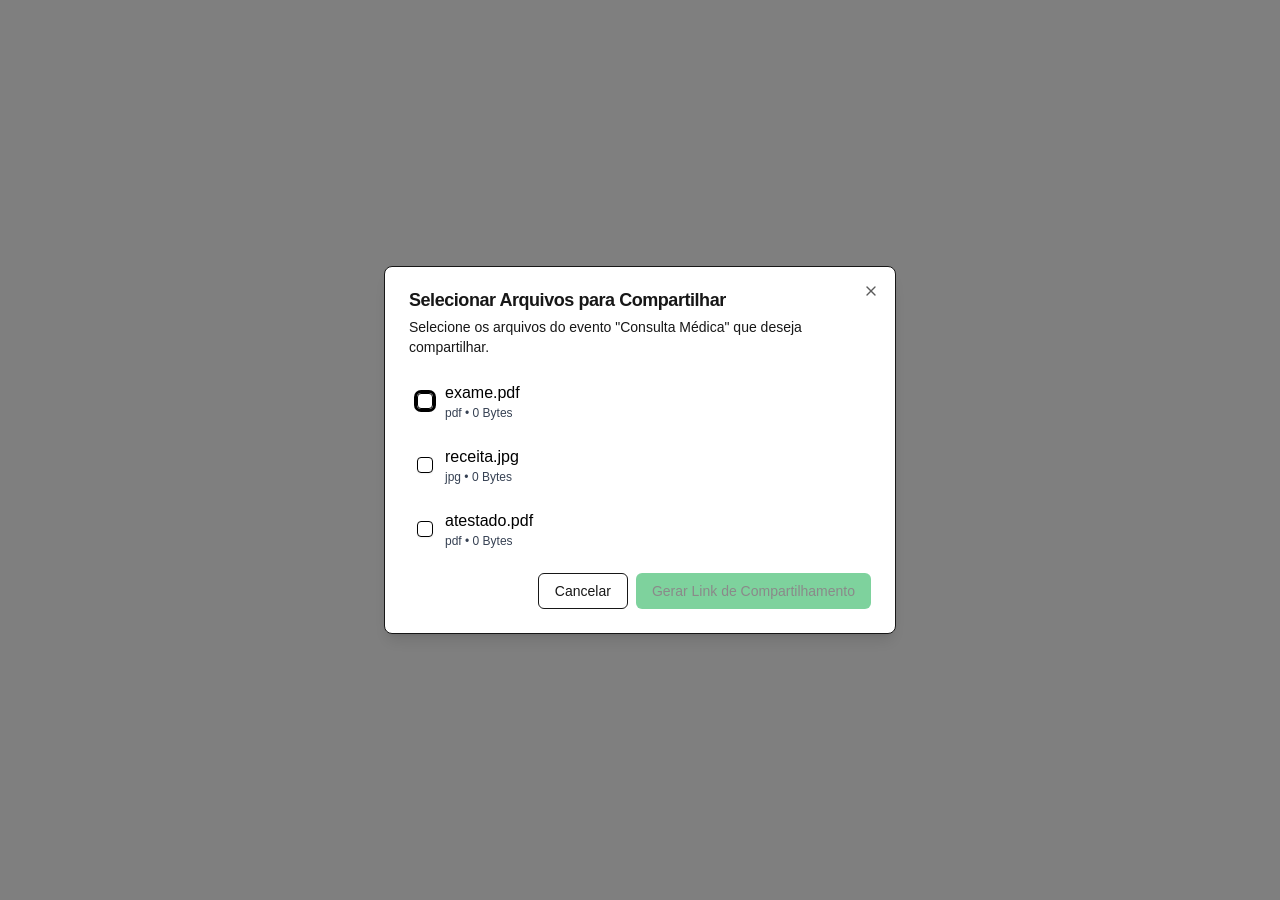
Test case: ShareModal › enables generate button when files are selected
Click the checkbox next to "exame.pdf" at (425, 401), box [417,393,433,409]
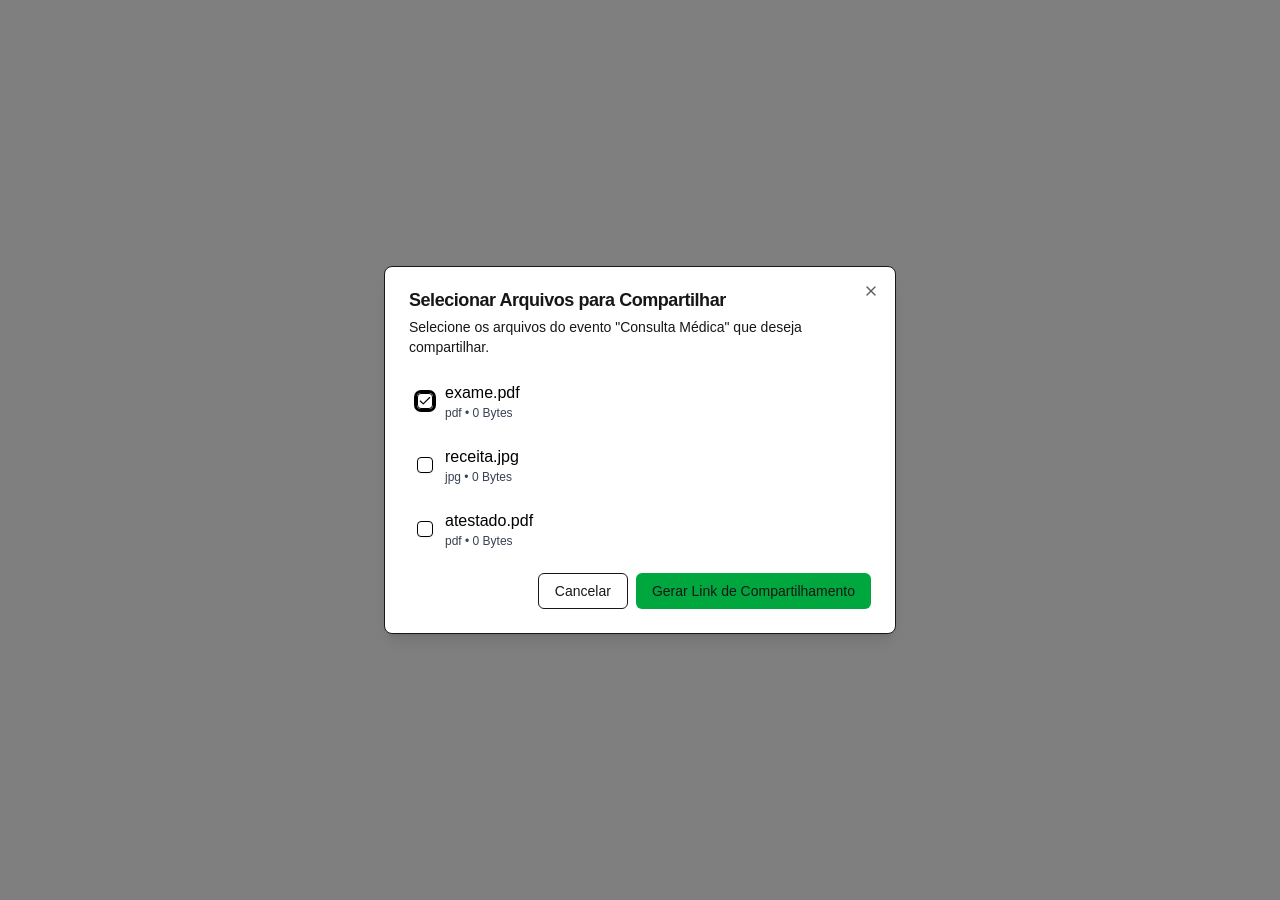
Expected: the button "Gerar Link de Compartilhamento" is enabled, [636,573,871,609]
